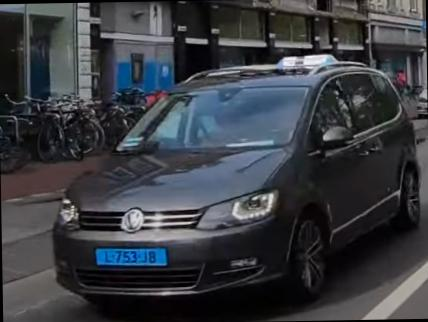license-plate: (92, 247, 171, 266)
